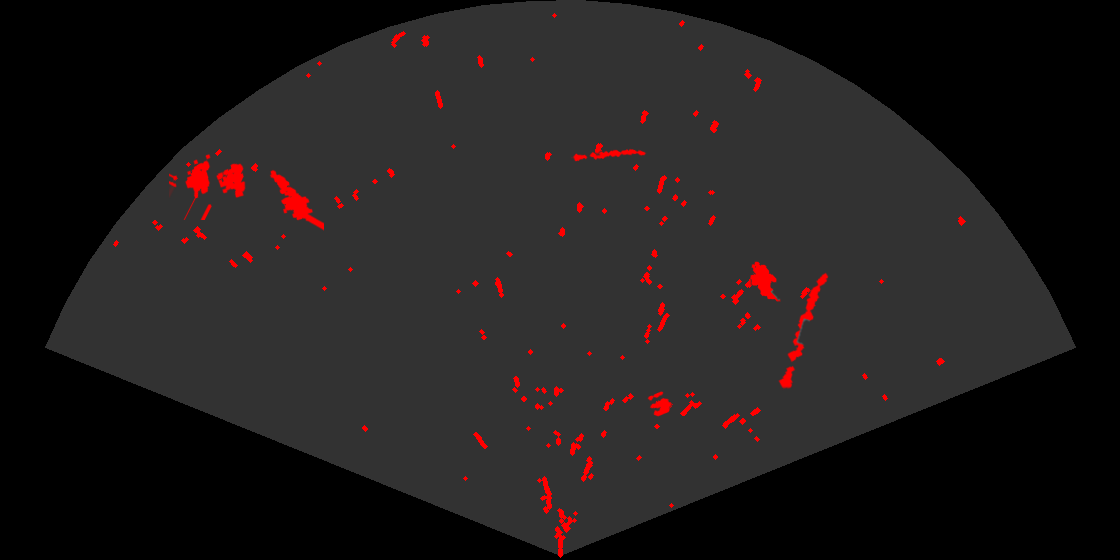AUV: (749, 260, 782, 303)
ball: (646, 390, 673, 418)
cage: (169, 152, 247, 220)
chain: (777, 271, 830, 391), (571, 147, 647, 163)
frogman: (268, 168, 324, 231)
